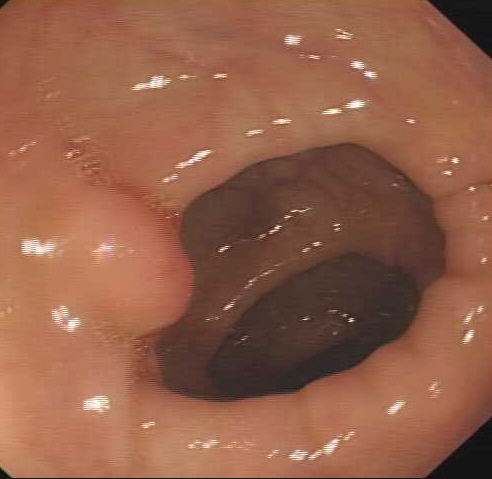others: (55, 182, 195, 338)
